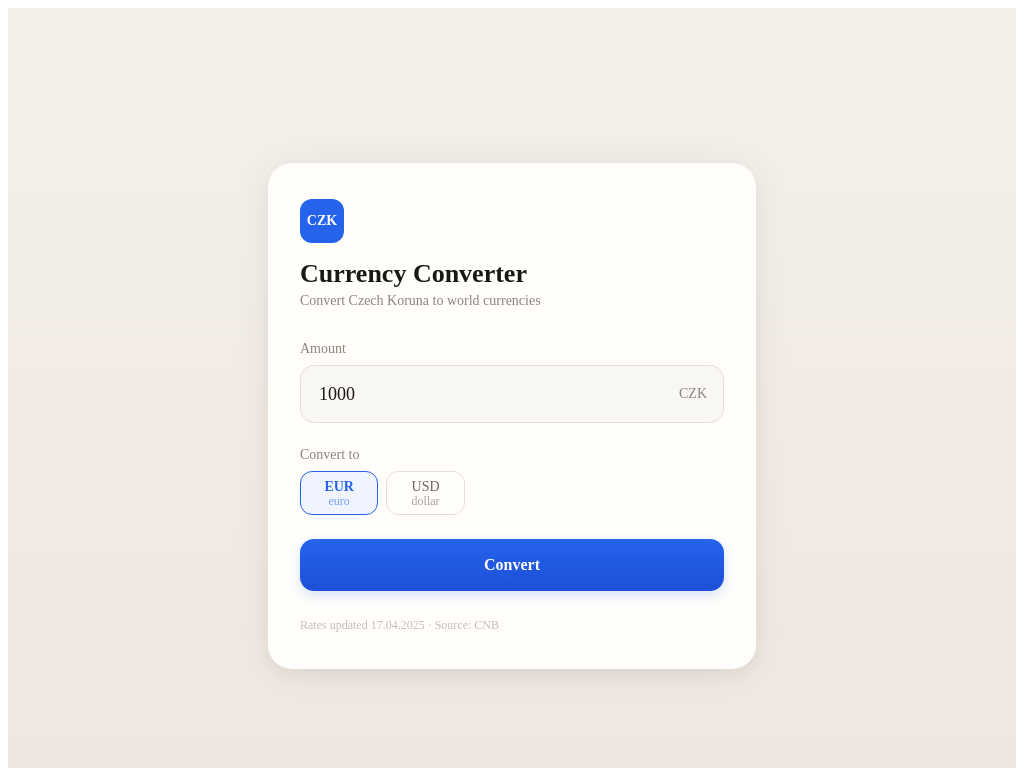
Test: CurrencyConverter › computes correct conversion result for USD
Click the button "USD dollar": click(426, 493) [386,471,465,515]
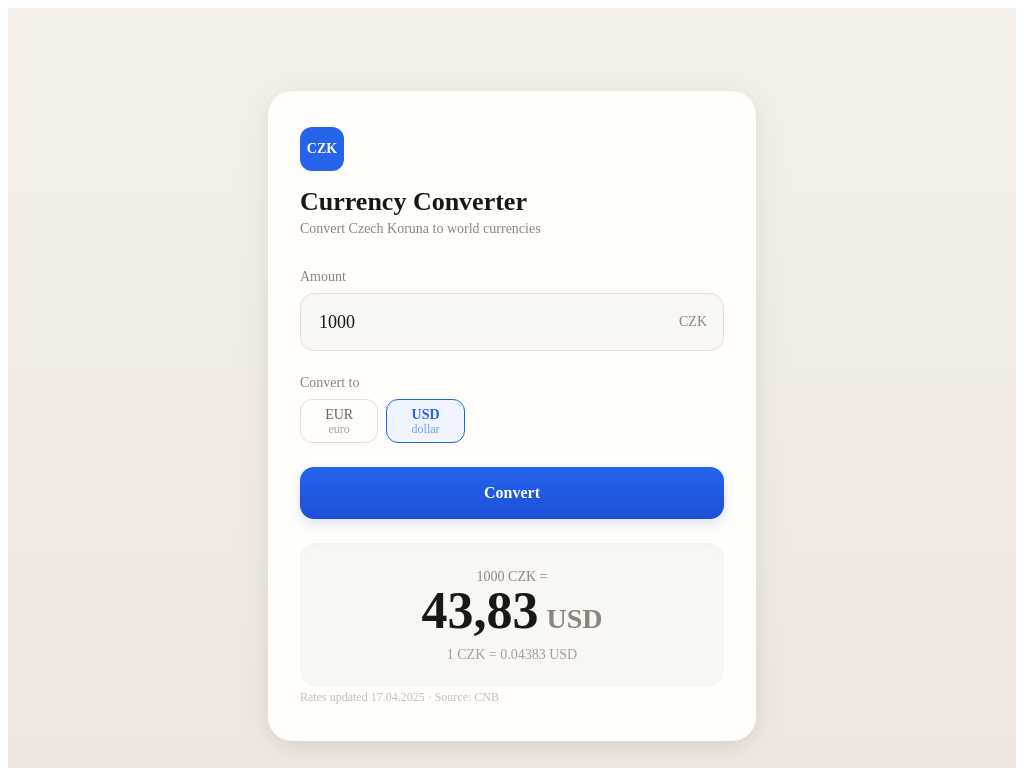
Expected: the text "43,83" is shown, [422,585,538,637]
